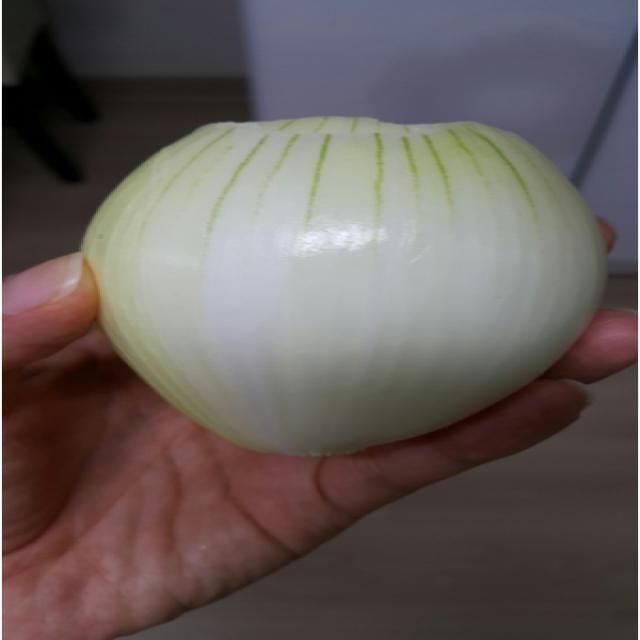onion: (78, 101, 616, 456)
